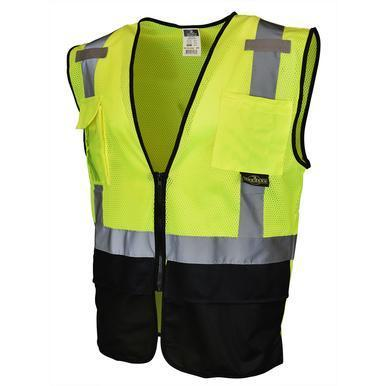vest: (62, 13, 322, 380)
